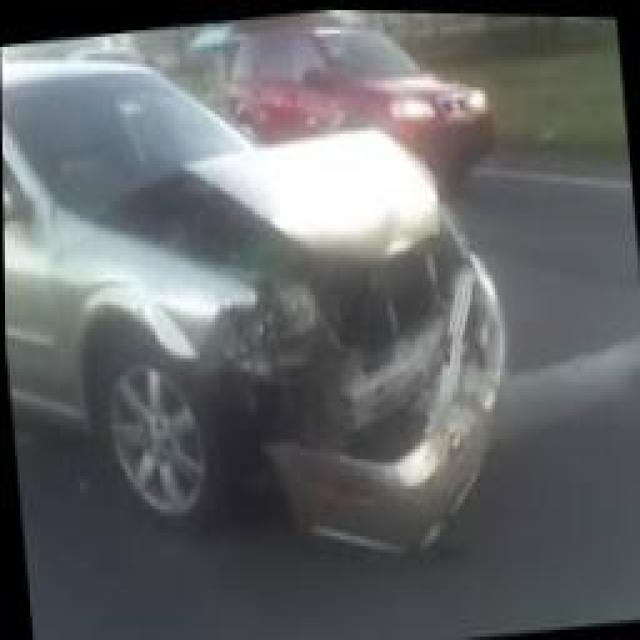Bonnet: (61, 124, 443, 283)
Bumper: (215, 237, 515, 551)
Fender: (53, 203, 248, 442)
